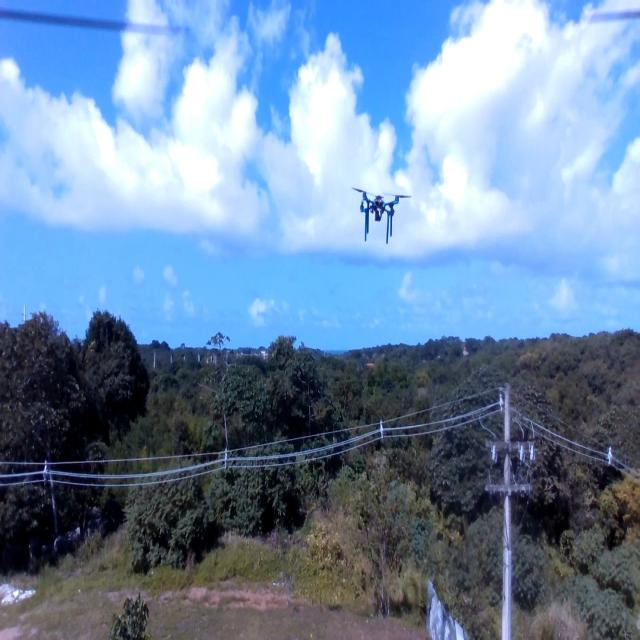-uav-: (346, 169, 413, 252)
